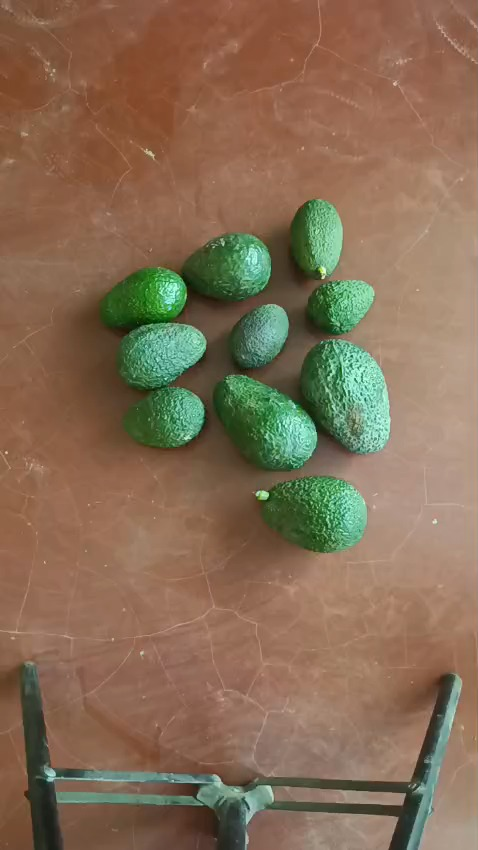Primera: (300, 340, 391, 453), (213, 375, 318, 468), (257, 477, 367, 551)
Segunda: (116, 321, 207, 389), (181, 233, 272, 301), (99, 267, 187, 330), (122, 386, 206, 448)
Tercera: (289, 199, 343, 279), (228, 303, 289, 370), (305, 278, 376, 335)
